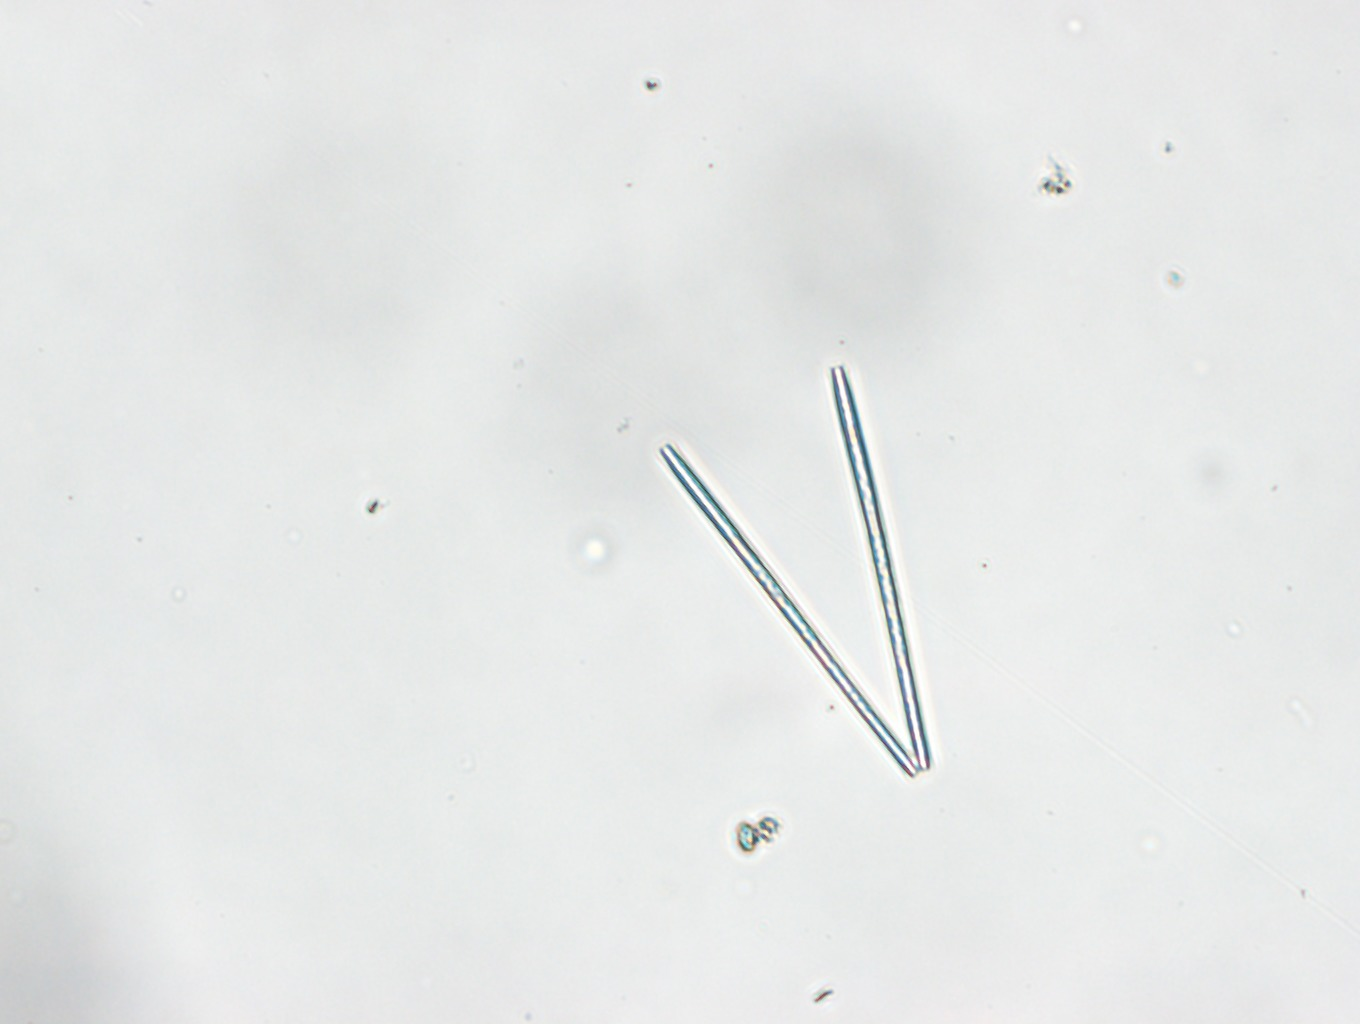thalassionema frauenfeldii: (657, 367, 936, 777)
